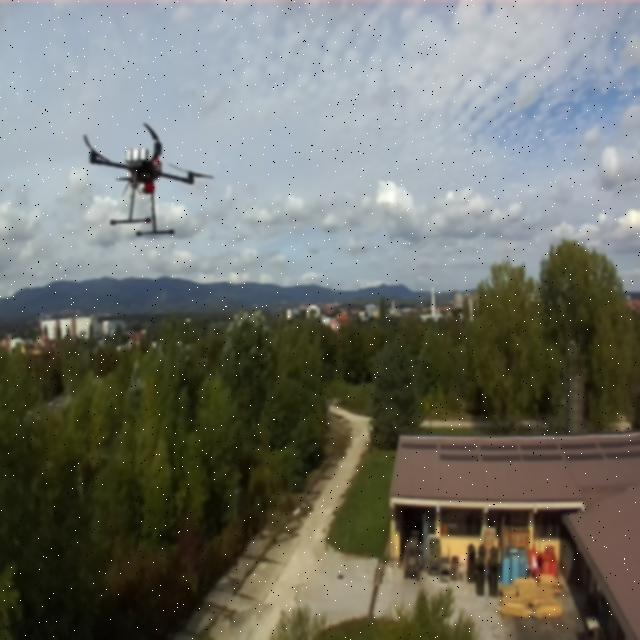UAV: (74, 113, 220, 235)
